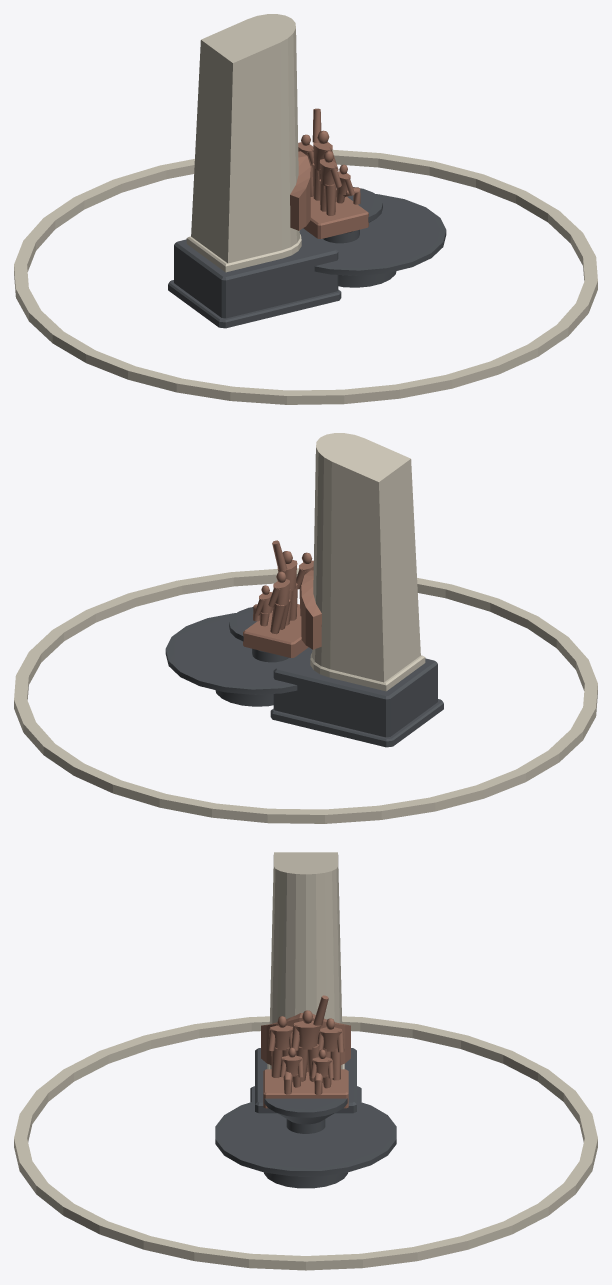
File: mexico-city-fuente-de-petroleos.glb
3 views of the same model, one above another, from view 1: azimuth 30°, elevation 25°; view 2: azimuth 150°, elevation 25°; view 3: azimuth 270°, elevation 25° (orthographic).
Parts seen in each view (by area): view 1: Fuente de Petróleos; view 2: Fuente de Petróleos; view 3: Fuente de Petróleos.
Boxes of the visible parts, x1,y1,x2,y2 form: Fuente de Petróleos: (14, 14, 597, 404); Fuente de Petróleos: (14, 433, 597, 823); Fuente de Petróleos: (14, 852, 597, 1270).
Bounding box in the file's own units: 35.6 × 17.88 × 35.6.
